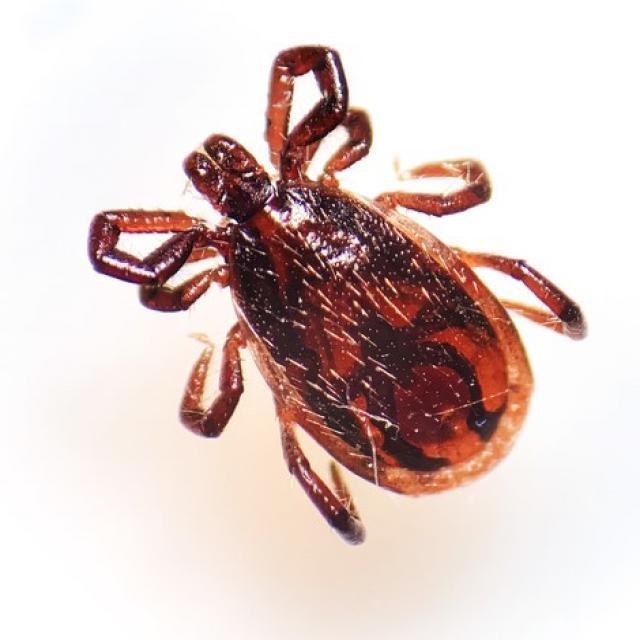Ixodes Ricinus-M: (87, 46, 588, 547)
